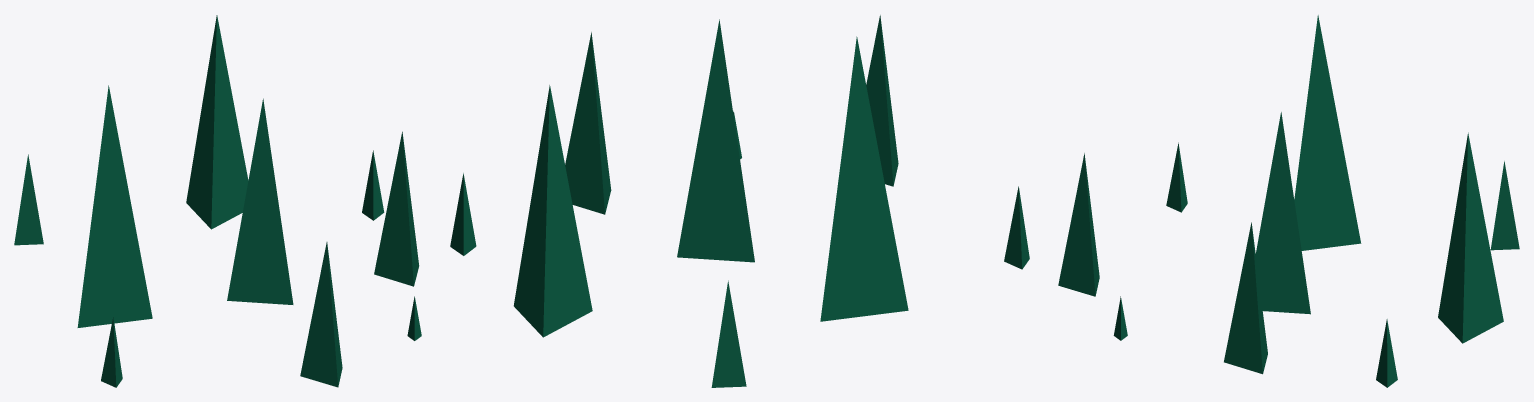
Rendered from world_1_grass_1.dae.
3 renders of one model, left to right at view 1: azimuth 30°, elevation 25°; view 2: azimuth 150°, elevation 25°; view 3: azimuth 270°, elevation 25°, orthographic. The views are drawn at different scales.
Parts seen in each view (by area): view 1: grass_1; view 2: grass_1; view 3: grass_1.
Boxes of the visible parts, box(x1,y1,x2,y2) form: grass_1: box(14, 15, 421, 387); grass_1: box(450, 15, 1029, 387); grass_1: box(1058, 15, 1519, 387).
Bounding box in the file's own units: 0.3435 × 0.3635 × 0.1957.
